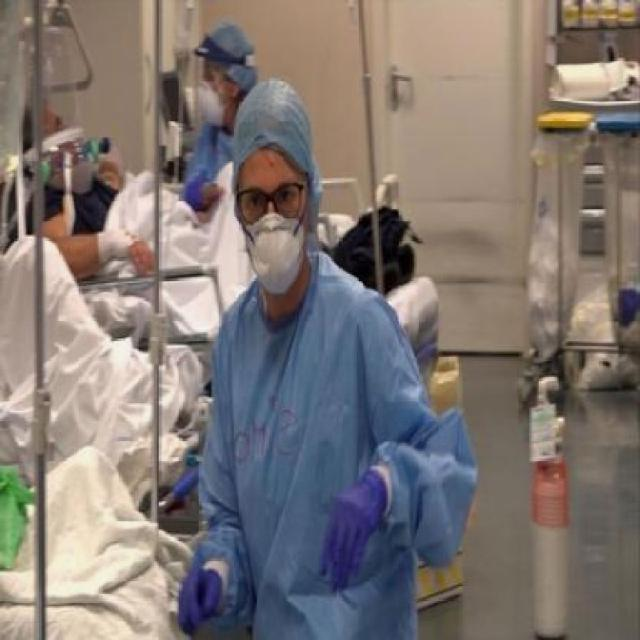face_mask: (243, 169, 311, 303)
glasses: (234, 176, 308, 224)
hand_glove: (318, 474, 384, 594), (175, 562, 223, 636)
hand_noglove: (128, 237, 155, 278)
head_nohelmet: (226, 110, 323, 176)
person: (171, 86, 474, 640)
